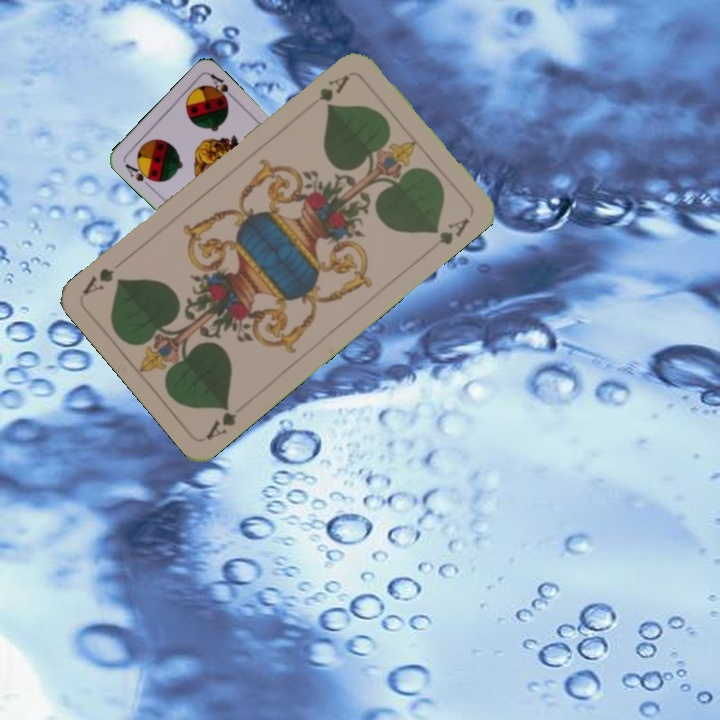GA: (304, 70, 352, 109), (202, 400, 239, 443)
SA: (121, 160, 157, 190)
